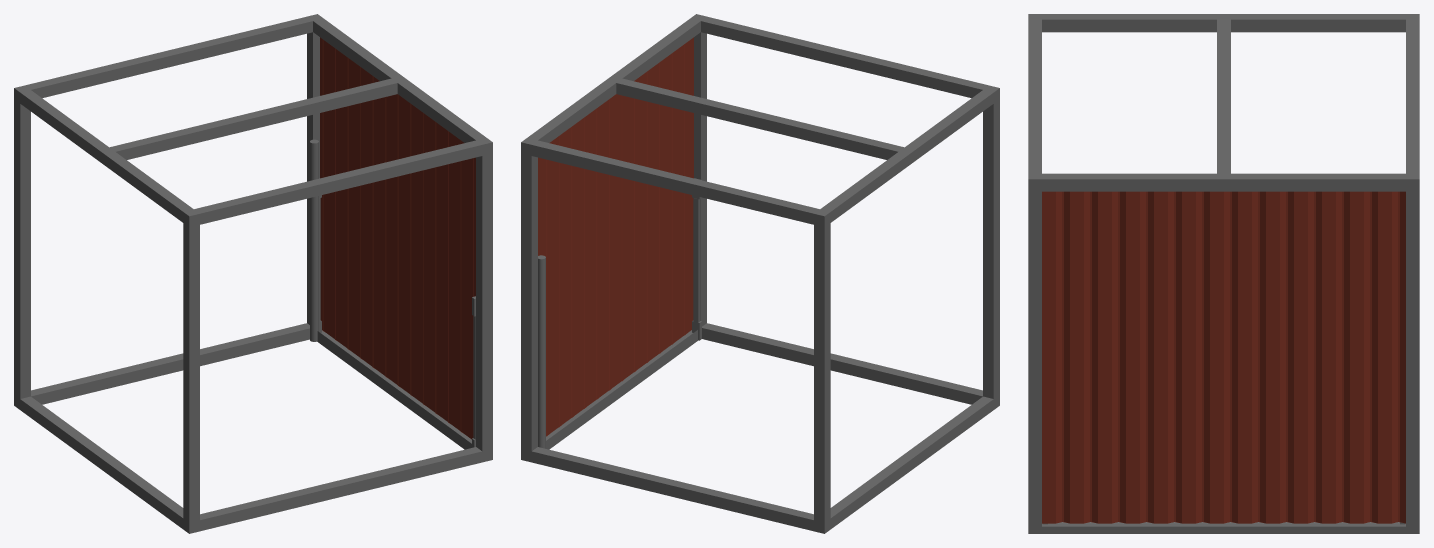
File: GarageDoor.fbx
3 views of the same model, side by side, from view 1: azimuth 30°, elevation 25°; view 2: azimuth 150°, elevation 25°; view 3: azimuth 270°, elevation 25° (orthographic). The views are drawn at different scales.
Parts seen in each view (by area): view 1: Cube, Cube.002, Cylinder, Cube.003; view 2: Cube, Cube.002, Cylinder, Cube.003; view 3: Cube.002, Cube.
Part boxes in pixels (bbox=[...]): Cube: bbox=[14, 14, 492, 533]; Cube.002: bbox=[320, 37, 475, 439]; Cylinder: bbox=[310, 139, 318, 341]; Cube.003: bbox=[319, 178, 475, 447]; Cube: bbox=[521, 14, 999, 533]; Cube.002: bbox=[538, 37, 693, 436]; Cylinder: bbox=[538, 255, 545, 448]; Cube.003: bbox=[692, 178, 701, 340]; Cube.002: bbox=[1042, 191, 1405, 523]; Cube: bbox=[1028, 14, 1419, 533].
Bounding box in the file's own units: 400 × 400 × 400.
